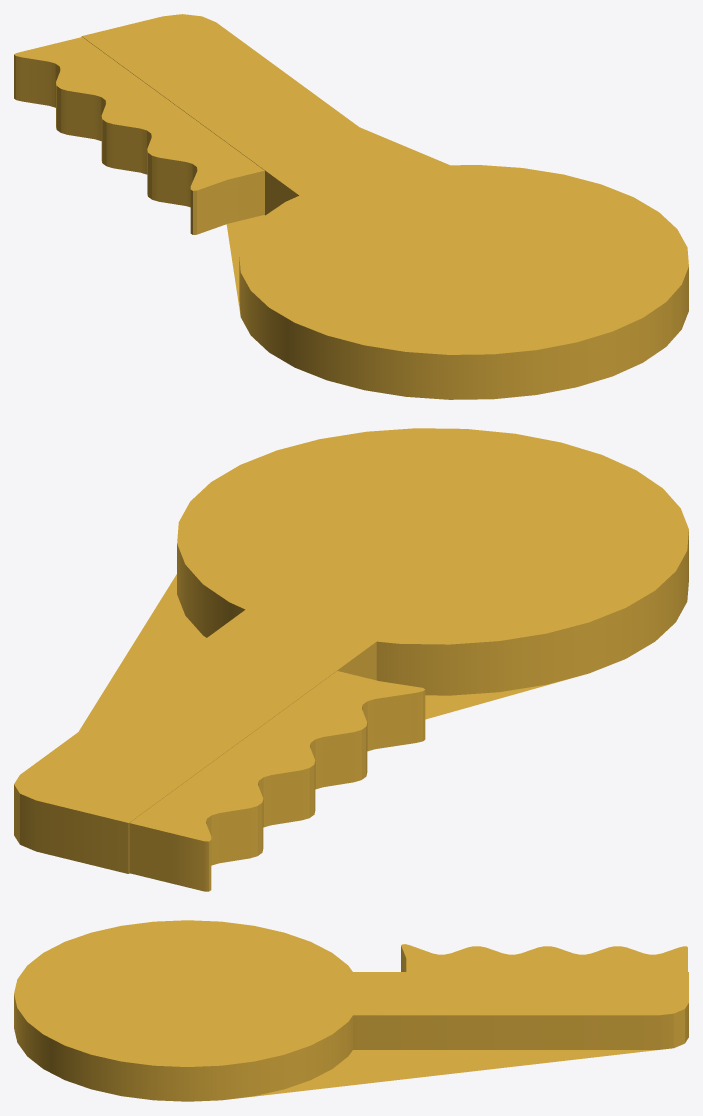
The model's file is Key_FBX.fbx.
3 renders of one model, top to bottom at view 1: azimuth 30°, elevation 25°; view 2: azimuth 150°, elevation 25°; view 3: azimuth 270°, elevation 25°, orthographic. The views are drawn at different scales.
Visible parts, largest first — view 1: Cylinder_dmg; view 2: Cylinder_dmg; view 3: Cylinder_dmg.
Part boxes in pixels (left/top/right/bottom): Cylinder_dmg: left=14, top=14, right=688, bottom=399; Cylinder_dmg: left=14, top=428, right=688, bottom=891; Cylinder_dmg: left=14, top=920, right=688, bottom=1101.
Size of the model in its own units: 200 by 21.99 by 388.
